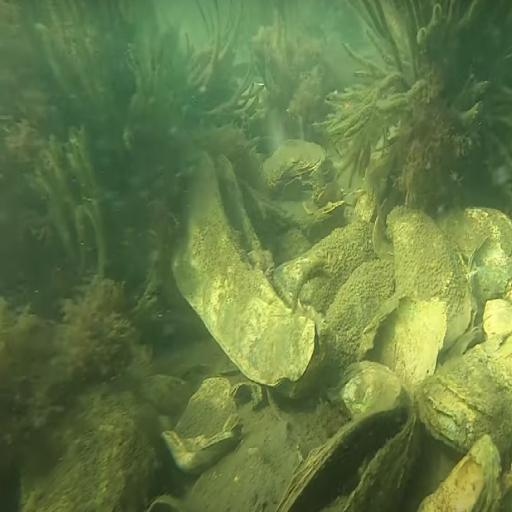Oyster-Closed: (389, 206, 473, 352), (415, 339, 512, 459), (435, 204, 512, 307), (324, 266, 398, 356), (418, 437, 505, 512), (334, 359, 406, 420), (177, 378, 239, 443), (262, 136, 325, 197), (169, 426, 239, 476), (483, 299, 512, 380)
Oyster-Open: (172, 143, 317, 391), (279, 407, 423, 512)
